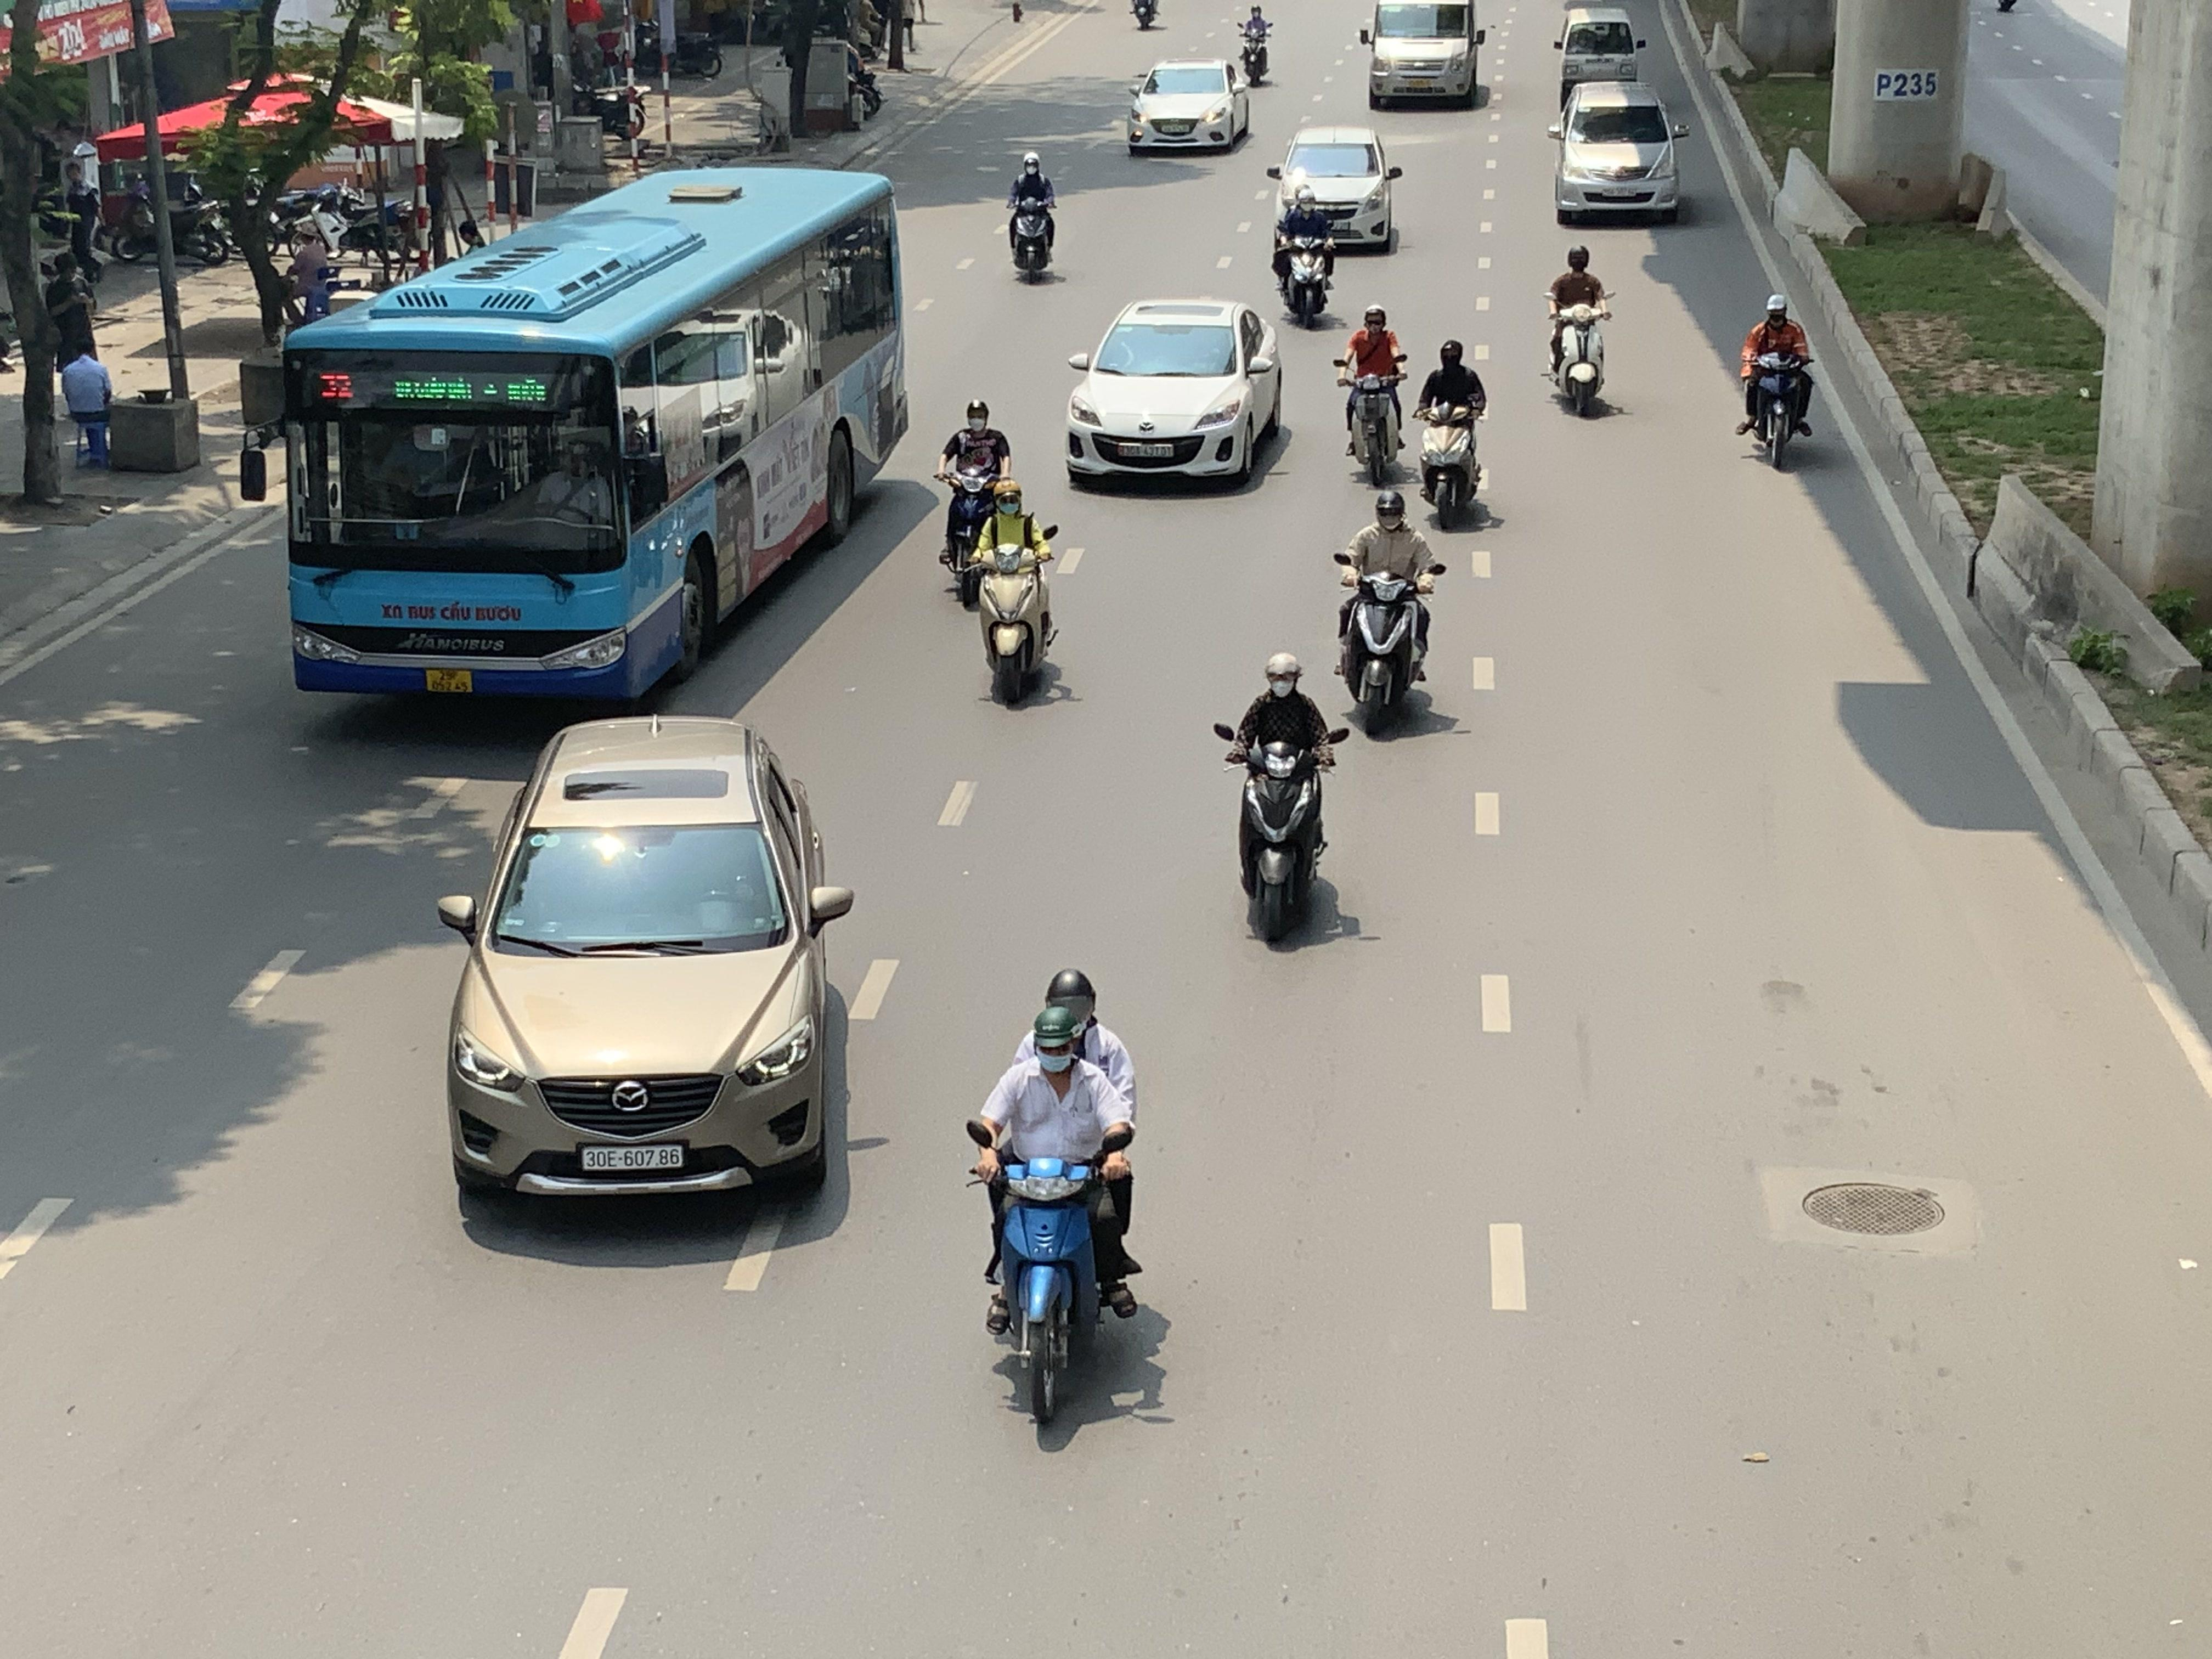BSD: (582, 1145, 685, 1171), (1116, 443, 1174, 457)
BSV: (425, 669, 472, 692)
bus: (275, 162, 911, 706)
car: (435, 713, 857, 1209), (1064, 298, 1285, 491), (1548, 80, 1688, 227), (1268, 125, 1404, 253), (1125, 59, 1252, 155), (1552, 7, 1644, 103)
motorbike: (968, 971, 1148, 1431), (1217, 648, 1341, 950), (1334, 488, 1440, 741), (972, 476, 1062, 708), (935, 397, 1015, 599), (1414, 336, 1491, 532), (1737, 293, 1815, 471), (1336, 305, 1409, 486), (108, 166, 232, 267), (1545, 246, 1613, 418), (1271, 186, 1338, 329), (1007, 152, 1059, 284), (280, 221, 338, 329), (1237, 3, 1273, 87)
truck: (1360, 0, 1489, 110)
